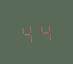four: (19, 21, 35, 44), (36, 20, 52, 42)
